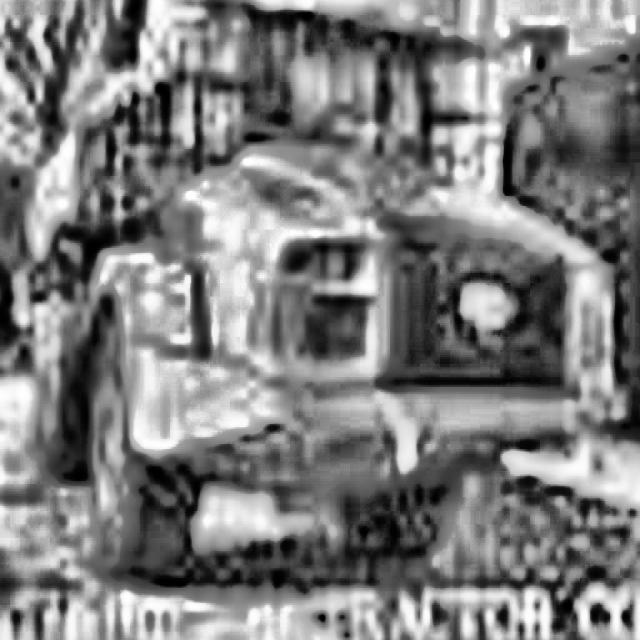dump_truck: (0, 0, 628, 593)
